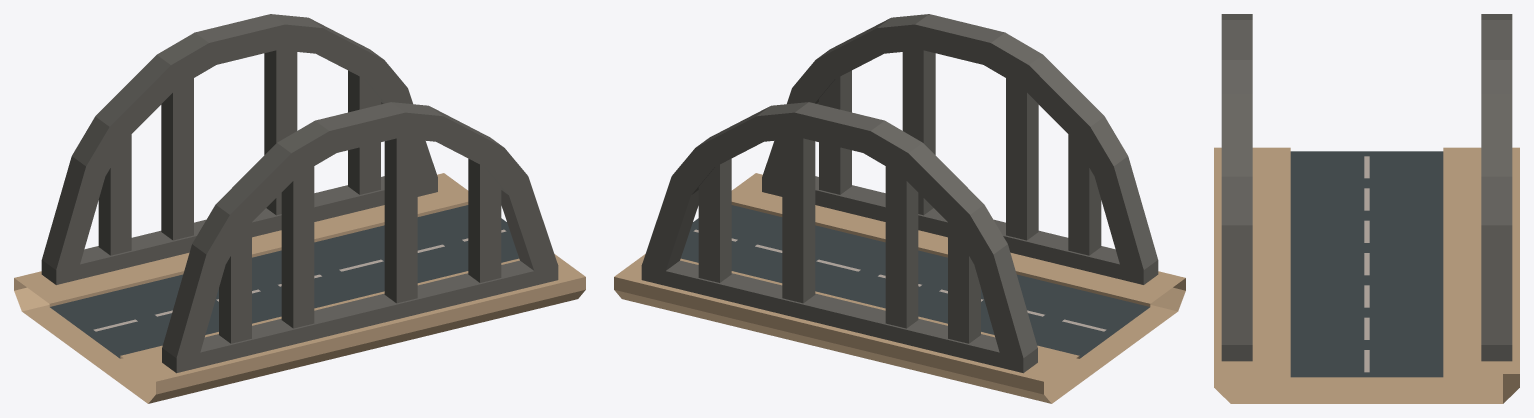
File: SM_brige_07.glb
3 views of the same model, side by side, from view 1: azimuth 30°, elevation 25°; view 2: azimuth 150°, elevation 25°; view 3: azimuth 270°, elevation 25° (orthographic). The views are drawn at different scales.
Parts seen in each view (by area): view 1: SM_brige_07; view 2: SM_brige_07; view 3: SM_brige_07.
Part boxes in pixels (left/top/right/bottom): SM_brige_07: left=14, top=14, right=585, bottom=403; SM_brige_07: left=614, top=14, right=1185, bottom=403; SM_brige_07: left=1214, top=14, right=1519, bottom=403.
Bounding box in the file's own units: 14 × 7.24 × 8.
1 material, 1 textured.
